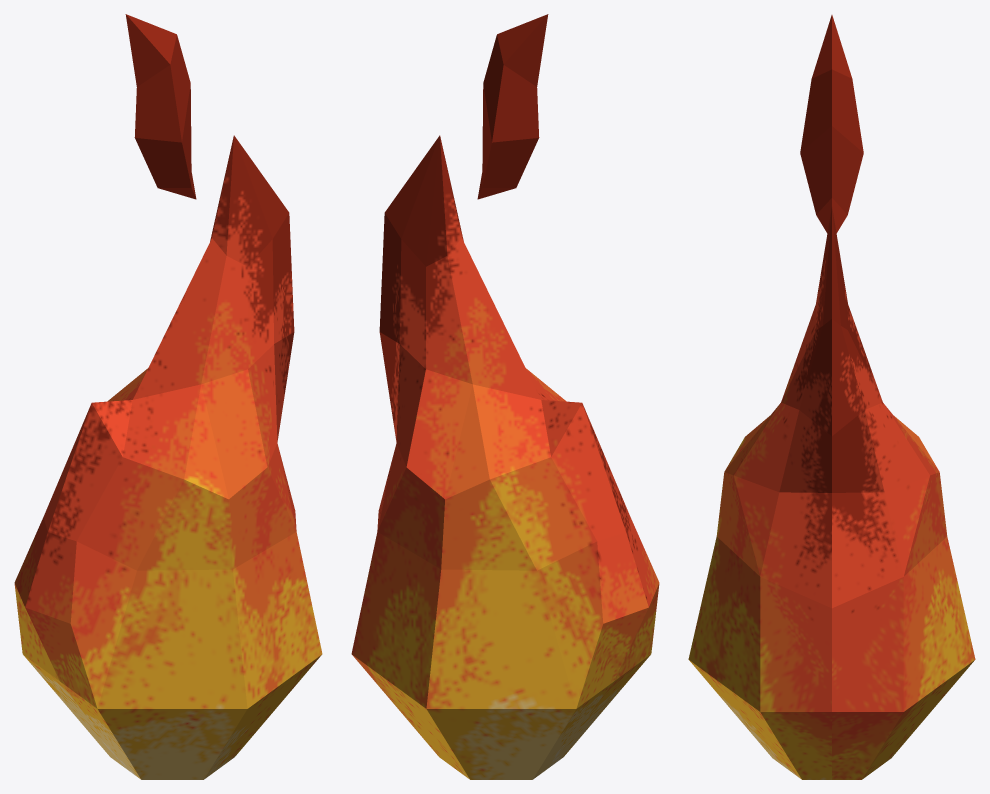
File: Flame4.fbx
3 views of the same model, side by side, from view 1: azimuth 30°, elevation 25°; view 2: azimuth 150°, elevation 25°; view 3: azimuth 270°, elevation 25° (orthographic). The views are drawn at different scales.
Visible parts, largest first — view 1: Flame 4; view 2: Flame 4; view 3: Flame 4.
Boxes of the visible parts, x1,y1,x2,y2 form: Flame 4: (14, 14, 322, 779); Flame 4: (351, 14, 659, 779); Flame 4: (688, 15, 975, 779).
Bounding box in the file's own units: 17.15 × 45.76 × 16.48.
1 material, 1 textured.
